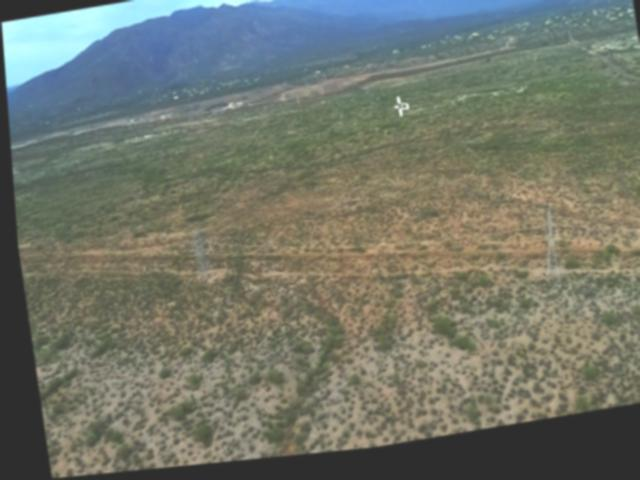plane: (391, 101, 407, 127)
